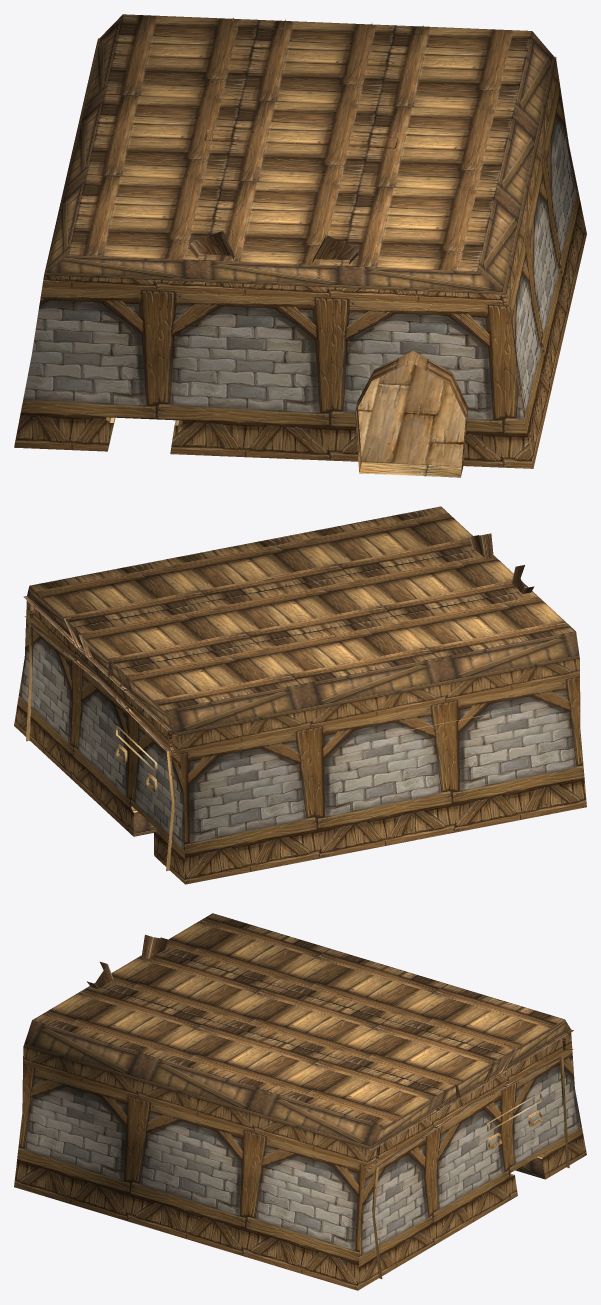
The model's file is stormwind_079.fbx.
3 renders of one model, top to bottom at view 1: azimuth 30°, elevation 25°; view 2: azimuth 150°, elevation 25°; view 3: azimuth 270°, elevation 25°, orthographic. The views are drawn at different scales.
Parts seen in each view (by area): view 1: stormwind_079_55, stormwind_079_87, stormwind_079_56, stormwind_079_51, stormwind_079_53, stormwind_079_49; view 2: stormwind_079_87, stormwind_079_55, stormwind_079_56, stormwind_079_53, stormwind_079_54; view 3: stormwind_079_87, stormwind_079_55, stormwind_079_56, stormwind_079_53.
Boxes of the visible parts, x1,y1,x2,y2 form: stormwind_079_55: (68, 14, 532, 271); stormwind_079_87: (14, 59, 586, 468); stormwind_079_56: (44, 14, 555, 445); stormwind_079_51: (358, 362, 465, 465); stormwind_079_53: (97, 17, 556, 477); stormwind_079_49: (355, 351, 468, 475); stormwind_079_87: (14, 598, 586, 884); stormwind_079_55: (30, 506, 575, 710); stormwind_079_56: (27, 586, 579, 836); stormwind_079_53: (23, 533, 534, 871); stormwind_079_54: (116, 710, 511, 831); stormwind_079_87: (14, 1033, 586, 1290); stormwind_079_55: (32, 913, 564, 1126); stormwind_079_56: (23, 1019, 570, 1179); stormwind_079_53: (30, 934, 573, 1278).
Size of the model in its own units: 21.48 by 7.1 by 21.72.
